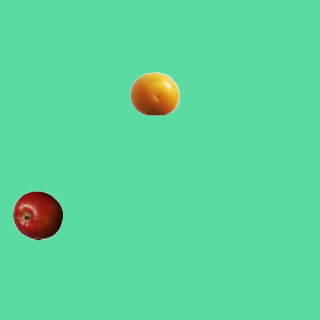Apple Braeburn: (12, 190, 62, 240)
Cherry Wax Yellow: (129, 68, 179, 118)
